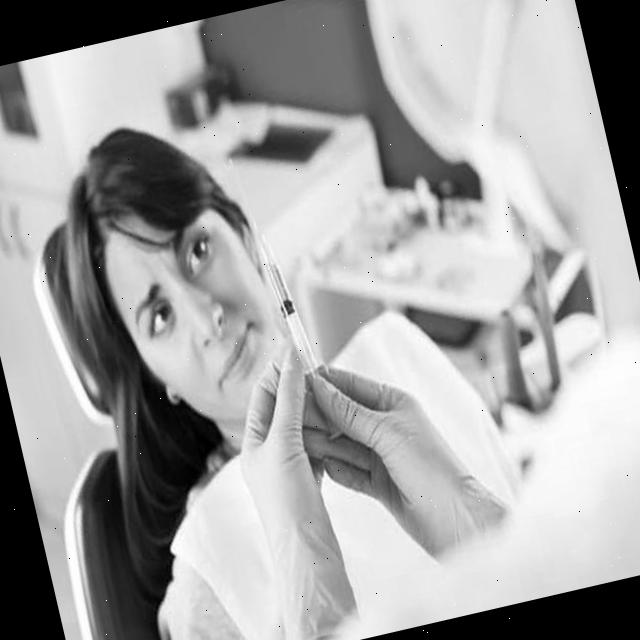Fear: (102, 209, 300, 443)
